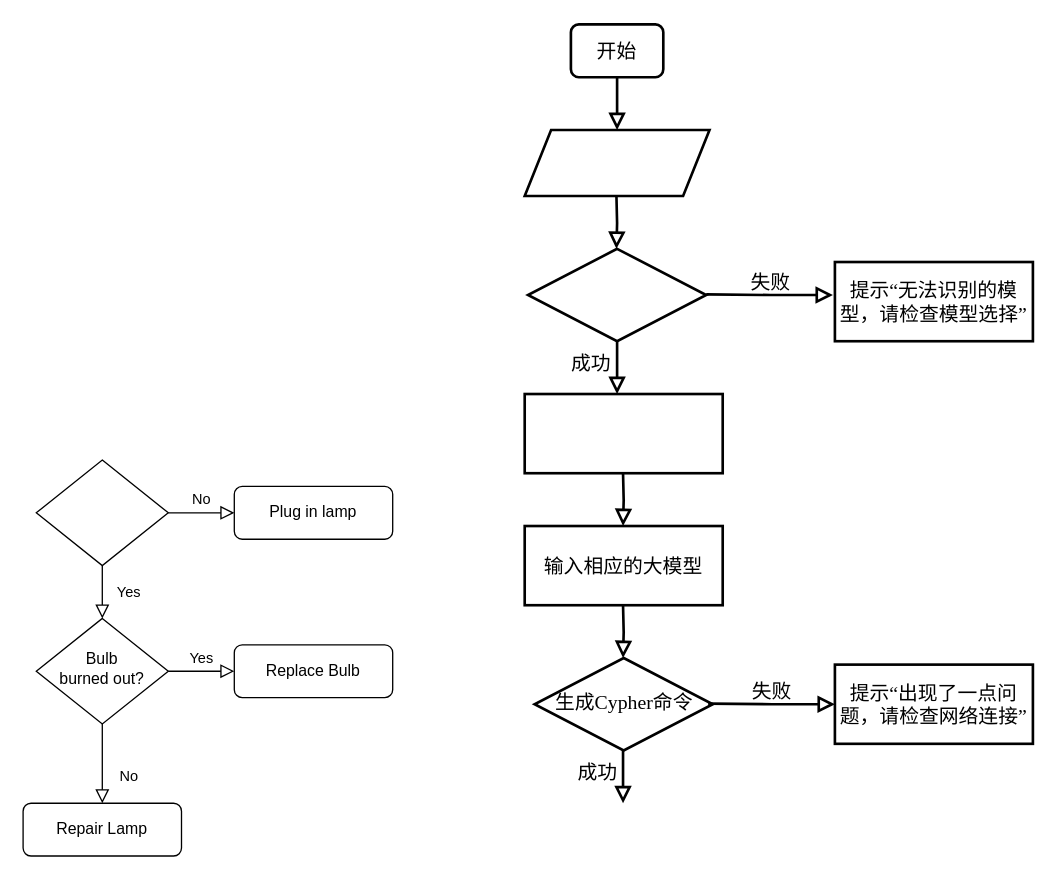
This 1057x879 diagram has some shape labels left out. Here are the shapes that lost their labels. From the top down, the box of each, then its label:
(523, 128, 710, 197): 用户选择模型 并输入 问题
(526, 247, 707, 342): 选择大模型
(523, 392, 723, 474): 问题+知识图谱结构 形成提示 （ Prompt ）
(35, 459, 168, 566): Lamp plugged in?
